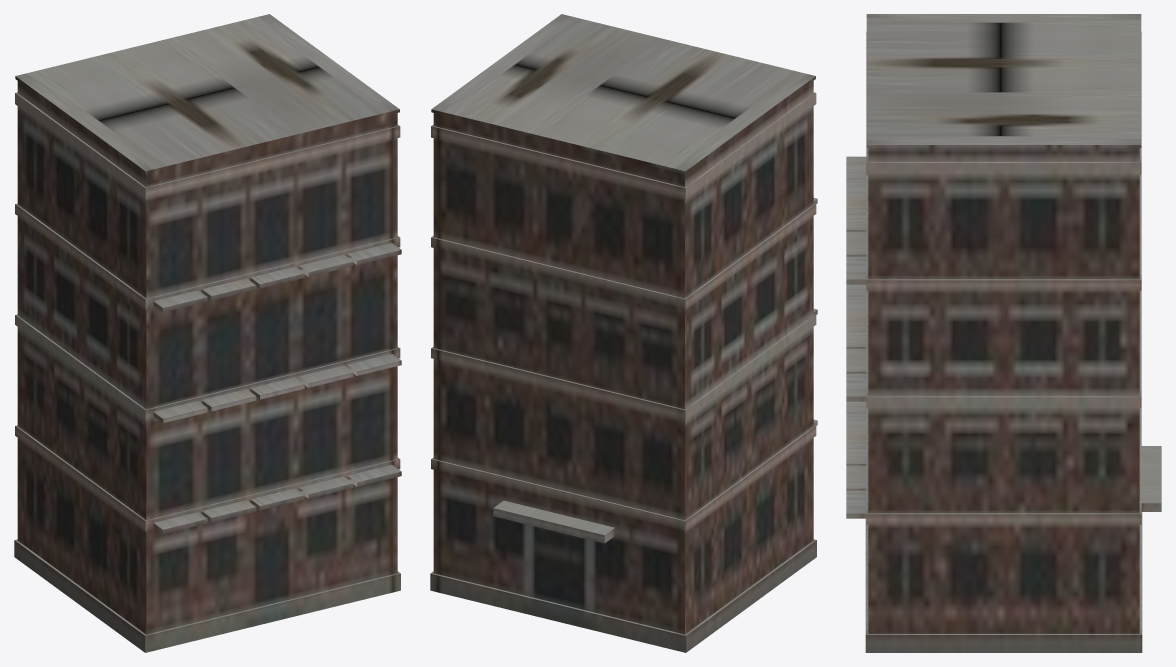
File: b_apartment_xfar.glb
3 views of the same model, side by side, from view 1: azimuth 30°, elevation 25°; view 2: azimuth 150°, elevation 25°; view 3: azimuth 270°, elevation 25° (orthographic). The views are drawn at different scales.
Parts seen in each view (by area): view 1: b_apartment_xfar; view 2: b_apartment_xfar; view 3: b_apartment_xfar.
Boxes of the visible parts, left/top/right/bottom form: b_apartment_xfar: left=14, top=14, right=401, bottom=652; b_apartment_xfar: left=430, top=14, right=817, bottom=652; b_apartment_xfar: left=846, top=14, right=1161, bottom=652.
Size of the model in its own units: 7.12 by 12.8 by 7.2.
1 material, 1 textured.
